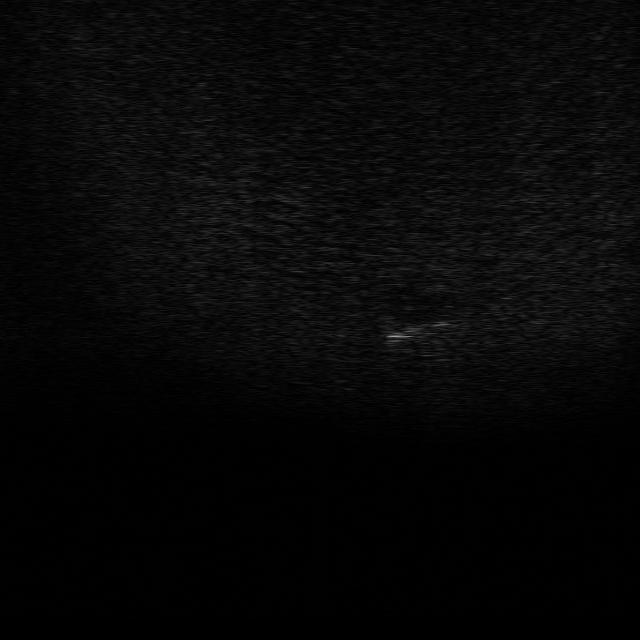plane: (379, 316, 450, 350)
